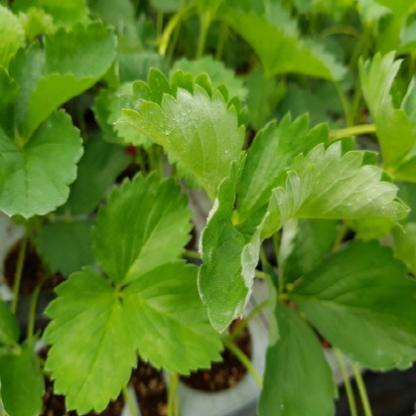Strawberry_Powdery_Mildew_Leaf: (196, 152, 319, 334), (235, 112, 414, 236), (109, 66, 250, 202)
